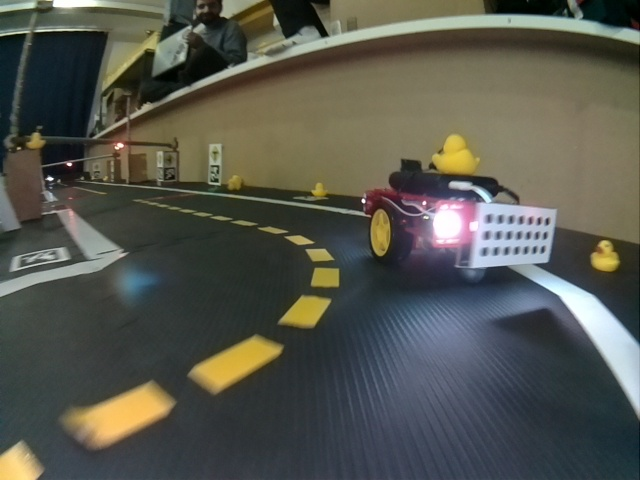Duckie: (432, 134, 480, 173), (591, 240, 619, 272), (227, 176, 242, 190), (312, 183, 328, 196), (27, 133, 43, 145)
Duckiebot: (361, 183, 554, 272)
Intersection sign: (210, 145, 220, 163), (165, 154, 175, 165)
QR code: (12, 251, 69, 270), (209, 166, 220, 184), (164, 167, 176, 180)
Traffic light: (113, 140, 123, 150)
